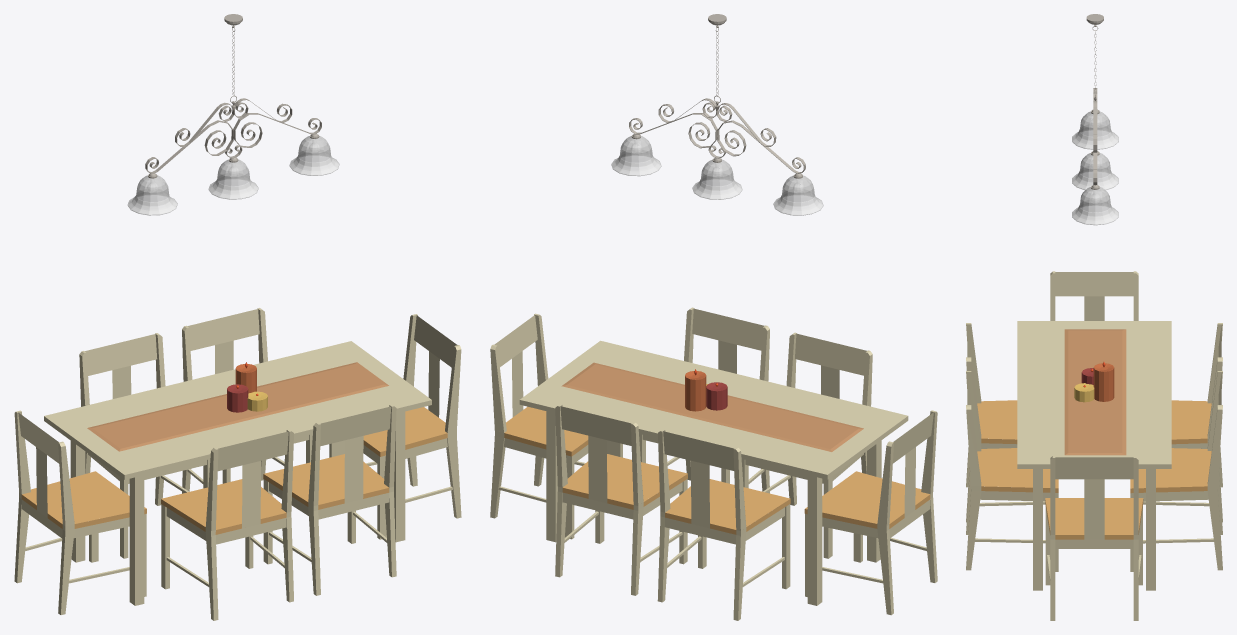
File: DiningSet3.obj
3 views of the same model, side by side, from view 1: azimuth 30°, elevation 25°; view 2: azimuth 150°, elevation 25°; view 3: azimuth 270°, elevation 25° (orthographic). The views are drawn at different scales.
Size of the model in its own units: 86 by 109 by 50.
